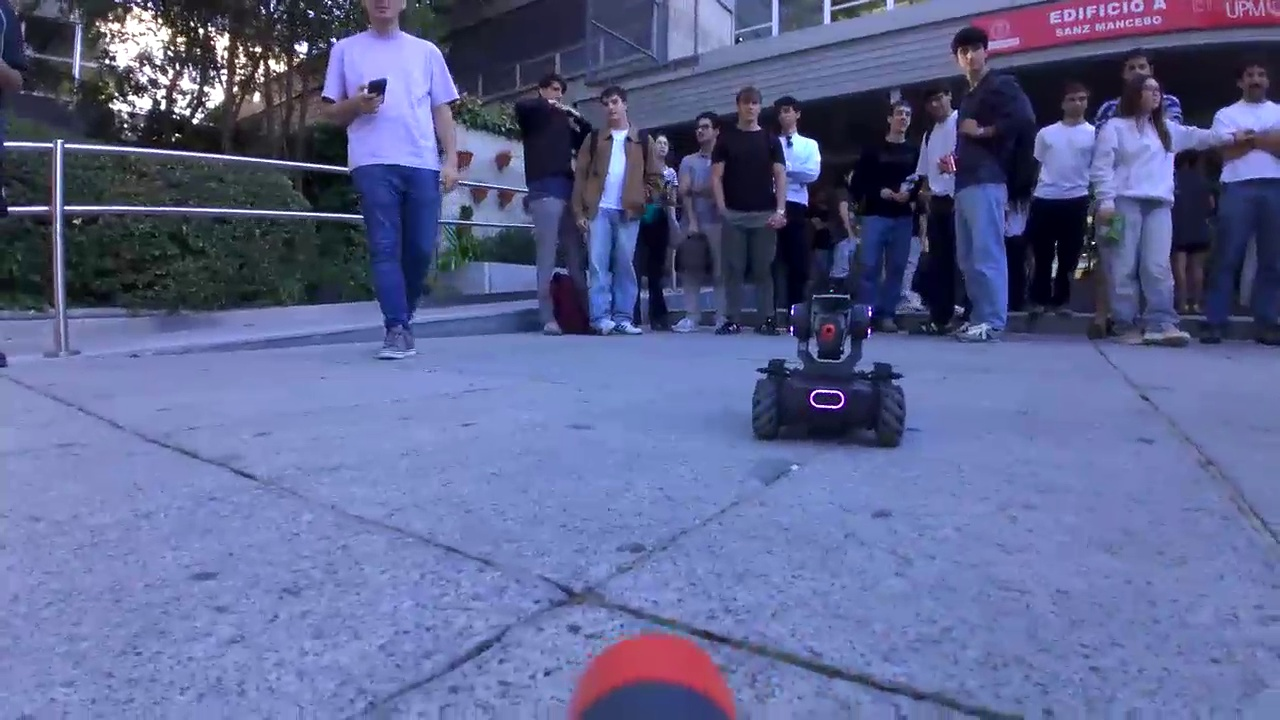robot: (745, 291, 920, 450)
